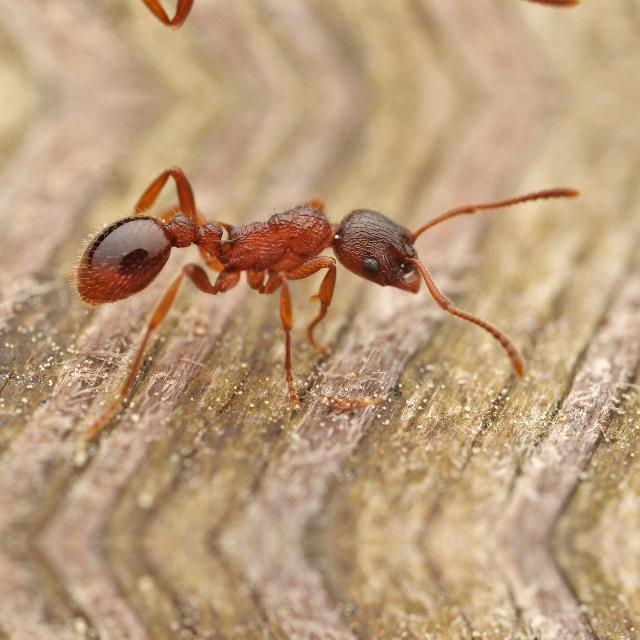Myrmica: (33, 161, 495, 353)
